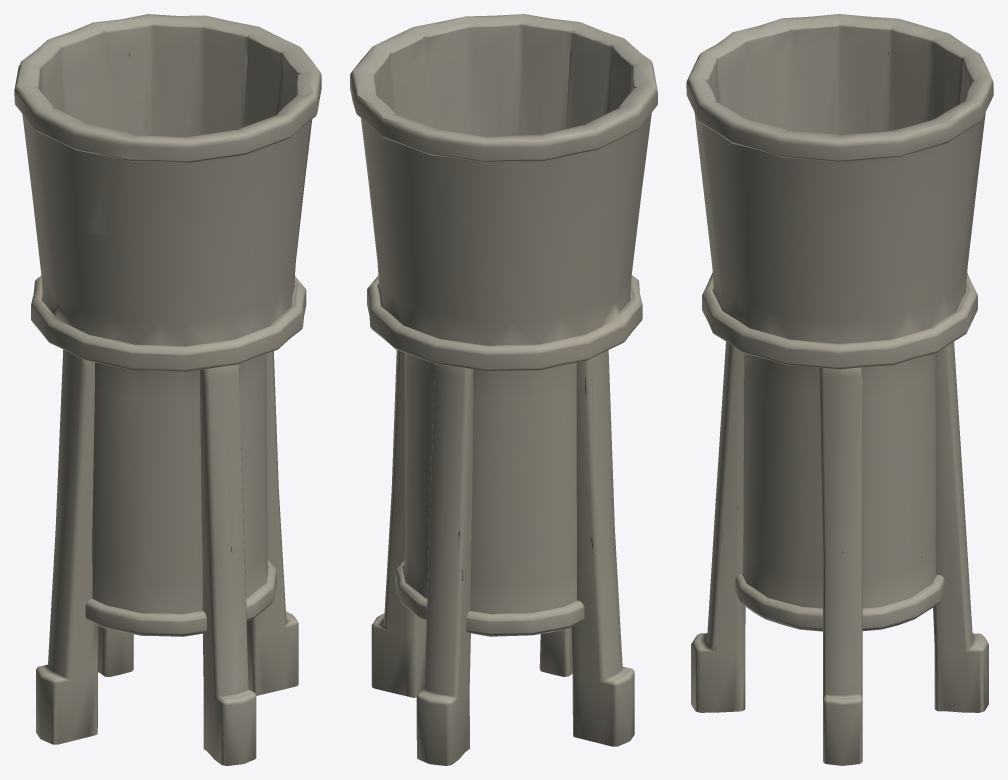
The model's file is 25-water-tower.glb.
3 renders of one model, left to right at view 1: azimuth 30°, elevation 25°; view 2: azimuth 150°, elevation 25°; view 3: azimuth 270°, elevation 25°, orthographic.
Parts seen in each view (by area): view 1: geometry_0; view 2: geometry_0; view 3: geometry_0.
Boxes of the visible parts, x1,y1,x2,y2 form: geometry_0: (14, 14, 321, 765); geometry_0: (350, 14, 657, 765); geometry_0: (686, 14, 993, 765).
Bounding box in the file's own units: 0.4214 × 0.9502 × 0.4214.
1 material, 1 textured.
